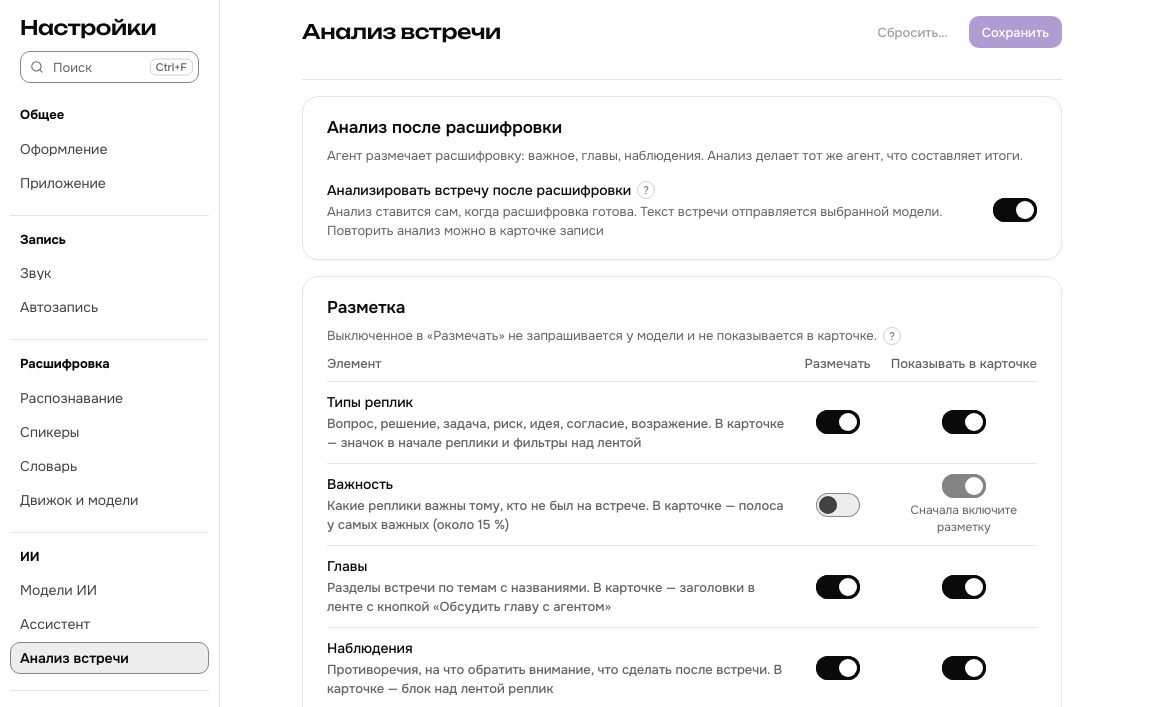
«Показывать» недоступно, пока «Размечать» выключено: подсказка «Сначала включите разметку»
Expected: the switch named "Важность: показывать" is disabled, [942, 474, 986, 498]
Expected: the switch named "Главы: показывать" is enabled, [942, 575, 986, 599]
What coordinates should you click on to do the following:
click the switch named "Важность: размечать"
I would click on:
 (838, 504)
Its box is [816, 492, 860, 516].
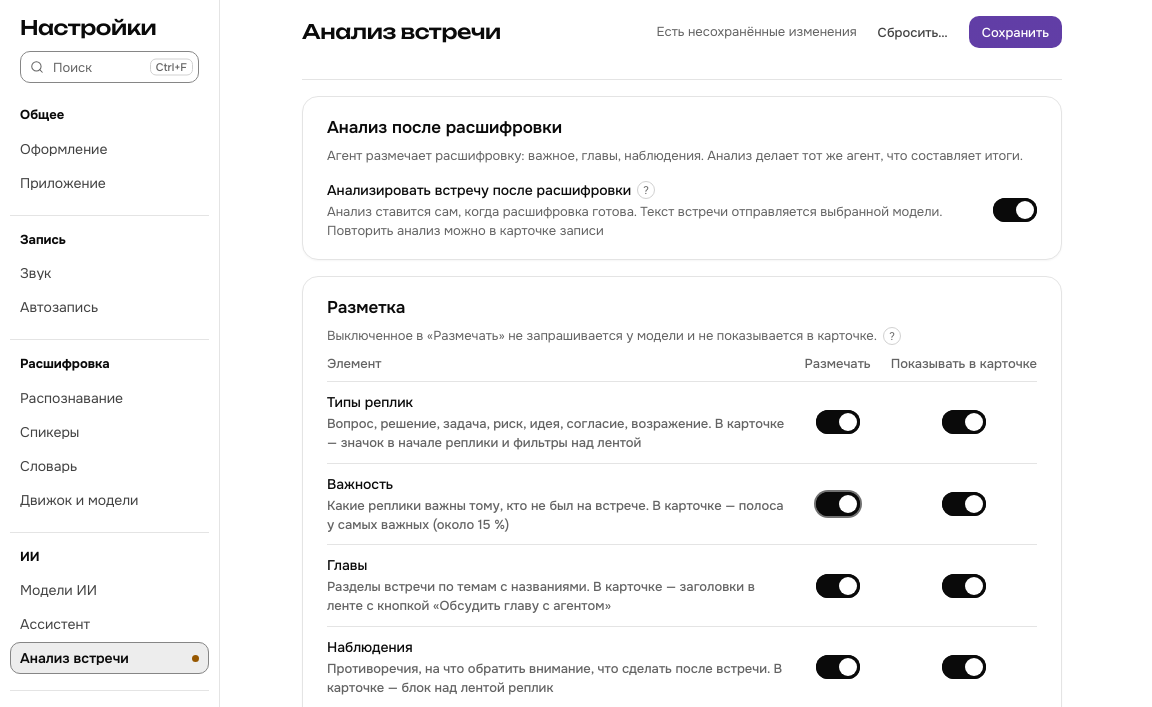
Result: the switch named "Важность: показывать" is enabled at [942, 492, 986, 516]
Result: the text "Сначала включите разметку" is gone
